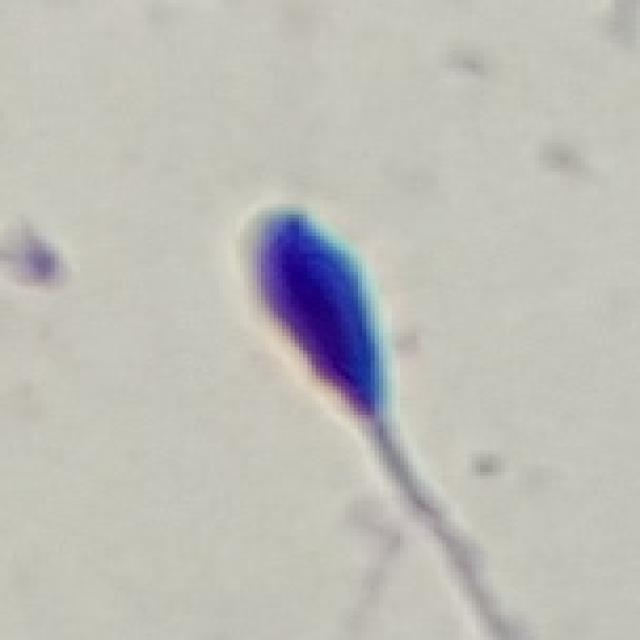abnormal sperm: (206, 189, 476, 596)
